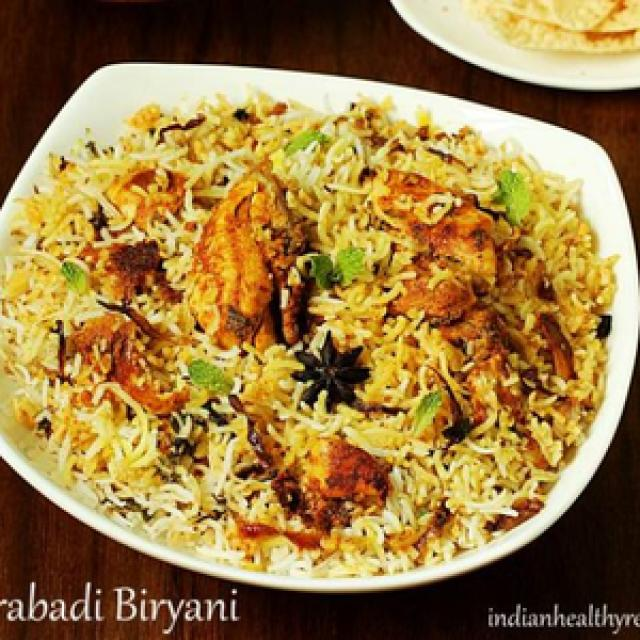chicken biriyani: (0, 76, 629, 601)
